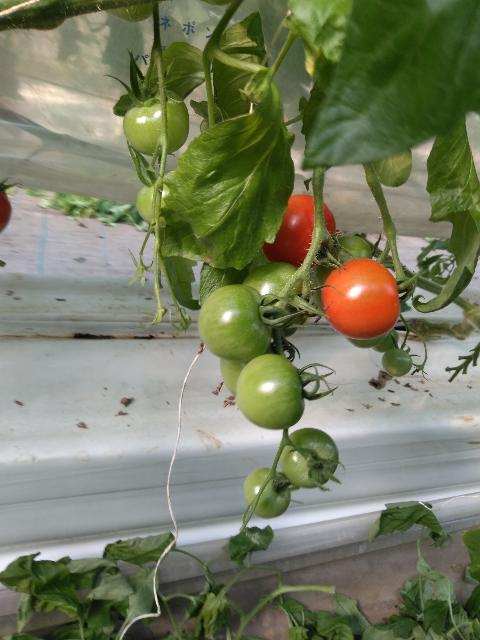l_fully_ripened: (322, 258, 400, 339), (263, 194, 336, 271)
l_green: (197, 285, 274, 362), (242, 261, 312, 338), (236, 354, 306, 430), (123, 88, 190, 158), (279, 428, 339, 489), (311, 235, 372, 292), (244, 468, 291, 520), (135, 170, 174, 227), (381, 346, 413, 377), (344, 332, 390, 349), (371, 328, 399, 353)
